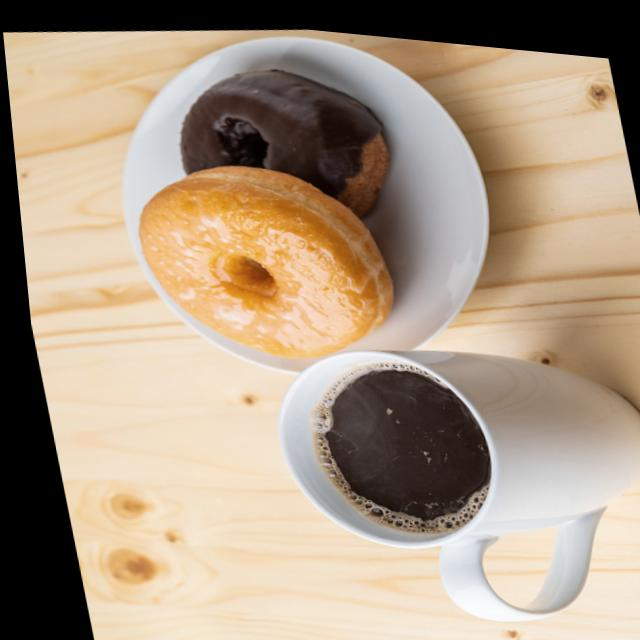donut: (124, 139, 408, 367), (159, 44, 406, 232)
kopi hitam: (250, 306, 640, 573)
